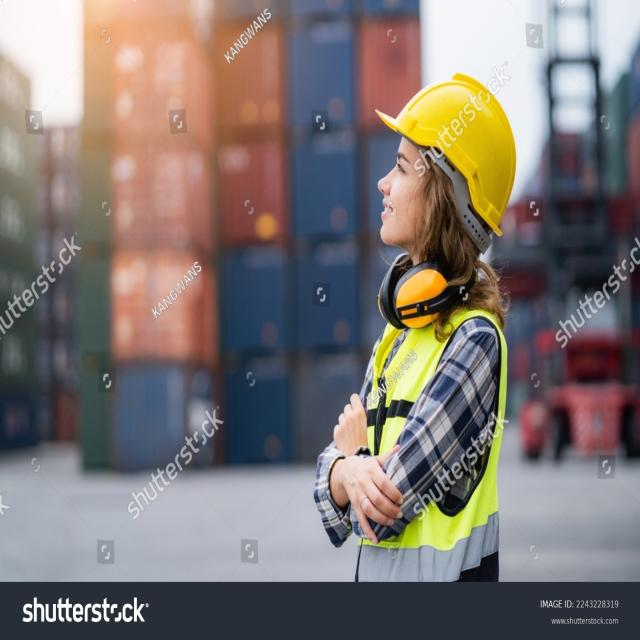helmet: (371, 70, 518, 224)
no-goggles: (380, 140, 460, 206)
vest: (354, 314, 514, 536)
